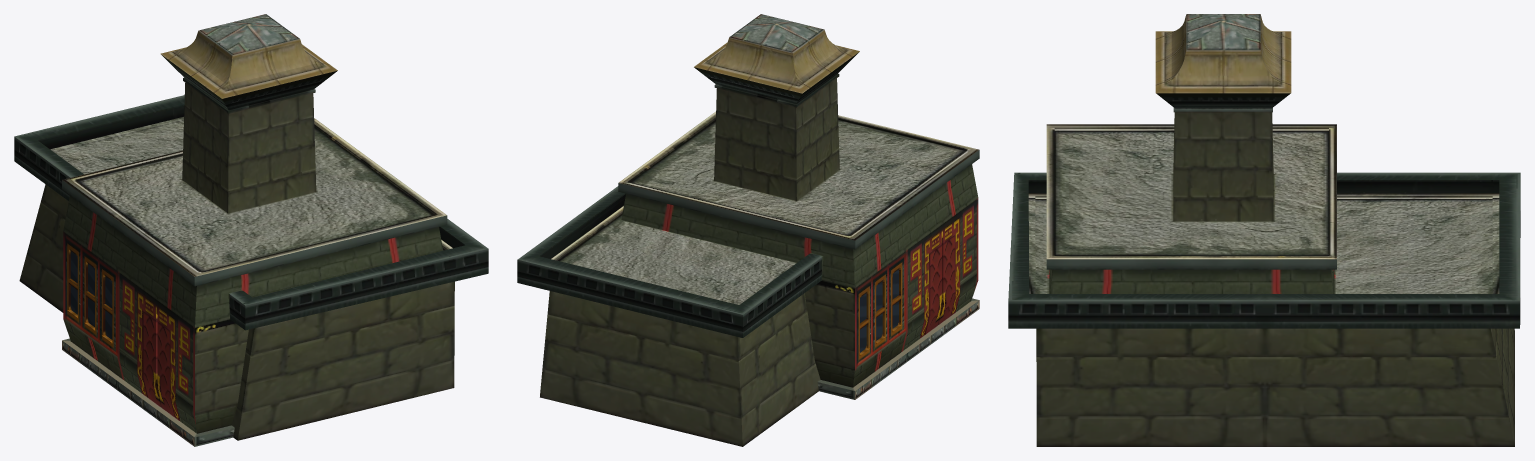
File: l_residenceleft_cad.glb
3 renders of one model, left to right at view 1: azimuth 30°, elevation 25°; view 2: azimuth 150°, elevation 25°; view 3: azimuth 270°, elevation 25°, orthographic. The views are drawn at different scales.
Visible parts, largest first — view 1: residence_left; view 2: residence_left; view 3: residence_left.
Boxes of the visible parts, x1,y1,x2,y2 form: residence_left: (14, 14, 488, 446); residence_left: (517, 14, 979, 446); residence_left: (1008, 14, 1520, 446).
Size of the model in its own units: 21.3 by 24.25 by 31.13.
1 material, 1 textured.
